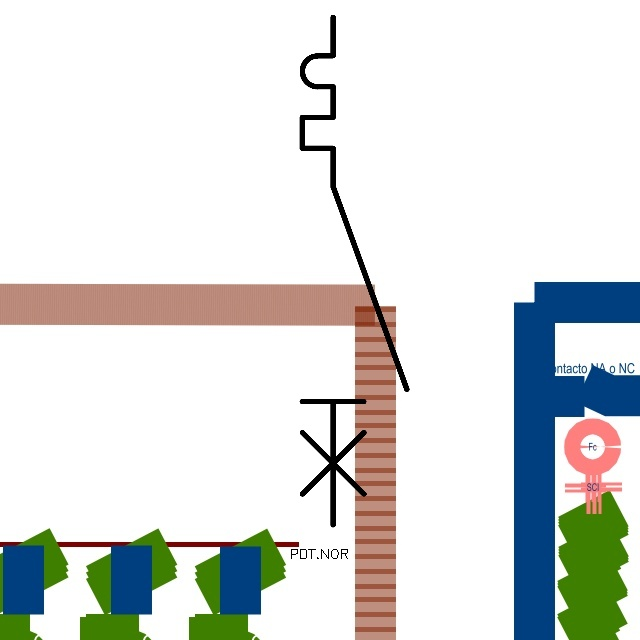interruptor_termomagnetico: (289, 4, 419, 538)
